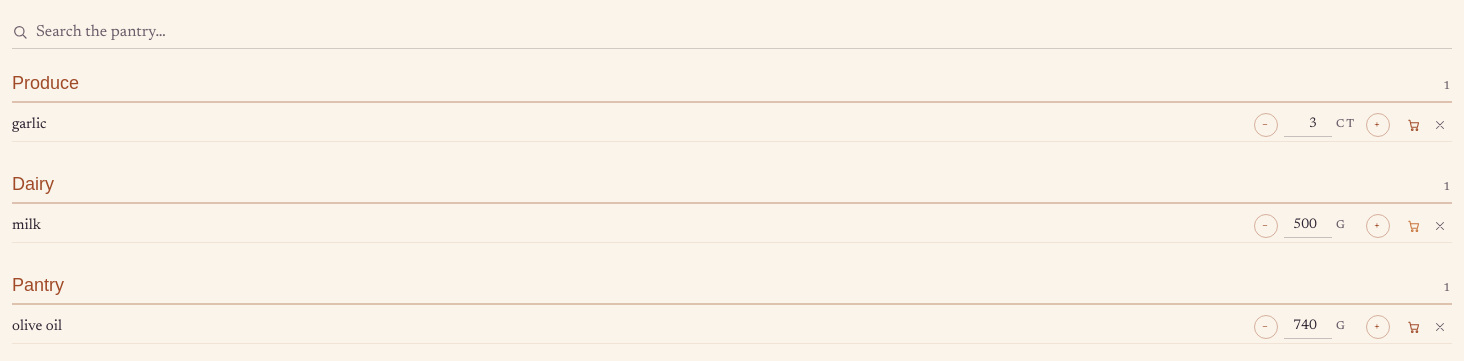
Test: PantryView › filters rows by the search query
The image size is (1464, 361).
Type "garlic" into the search field labelled "Search the pantry". click: [744, 32]
box: top-left (36, 20), bottom-right (1452, 44)
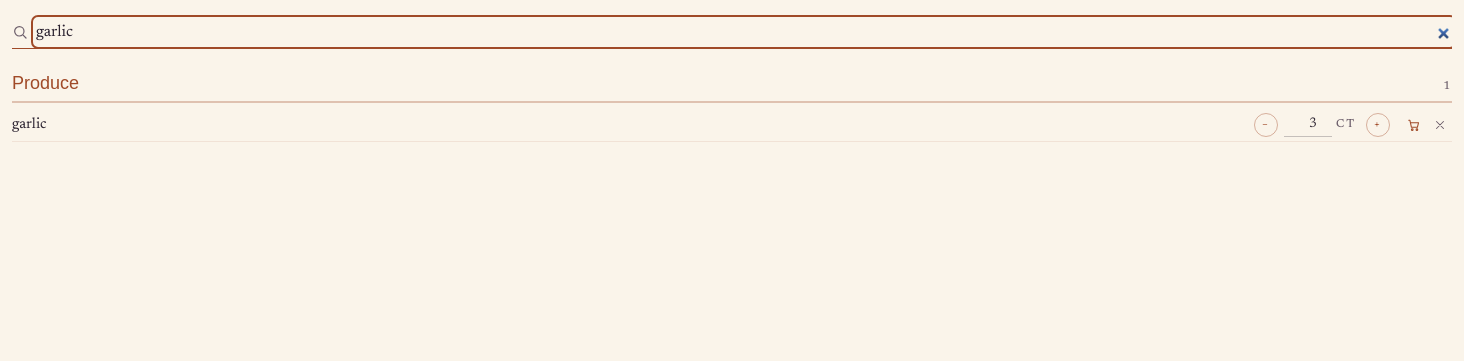
Expected: the text "garlic" is shown, top-left (12, 117), bottom-right (47, 132)
Now the text "olive oil" is gone
Now the text "milk" is gone
